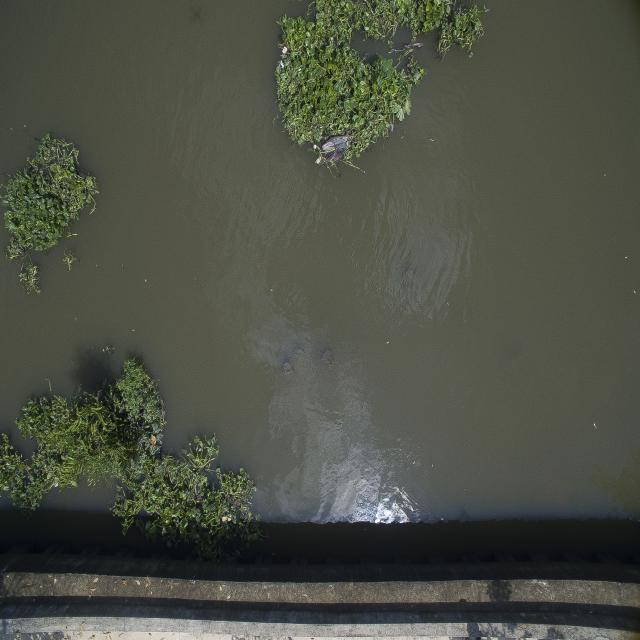Plastic: (317, 133, 356, 170)
